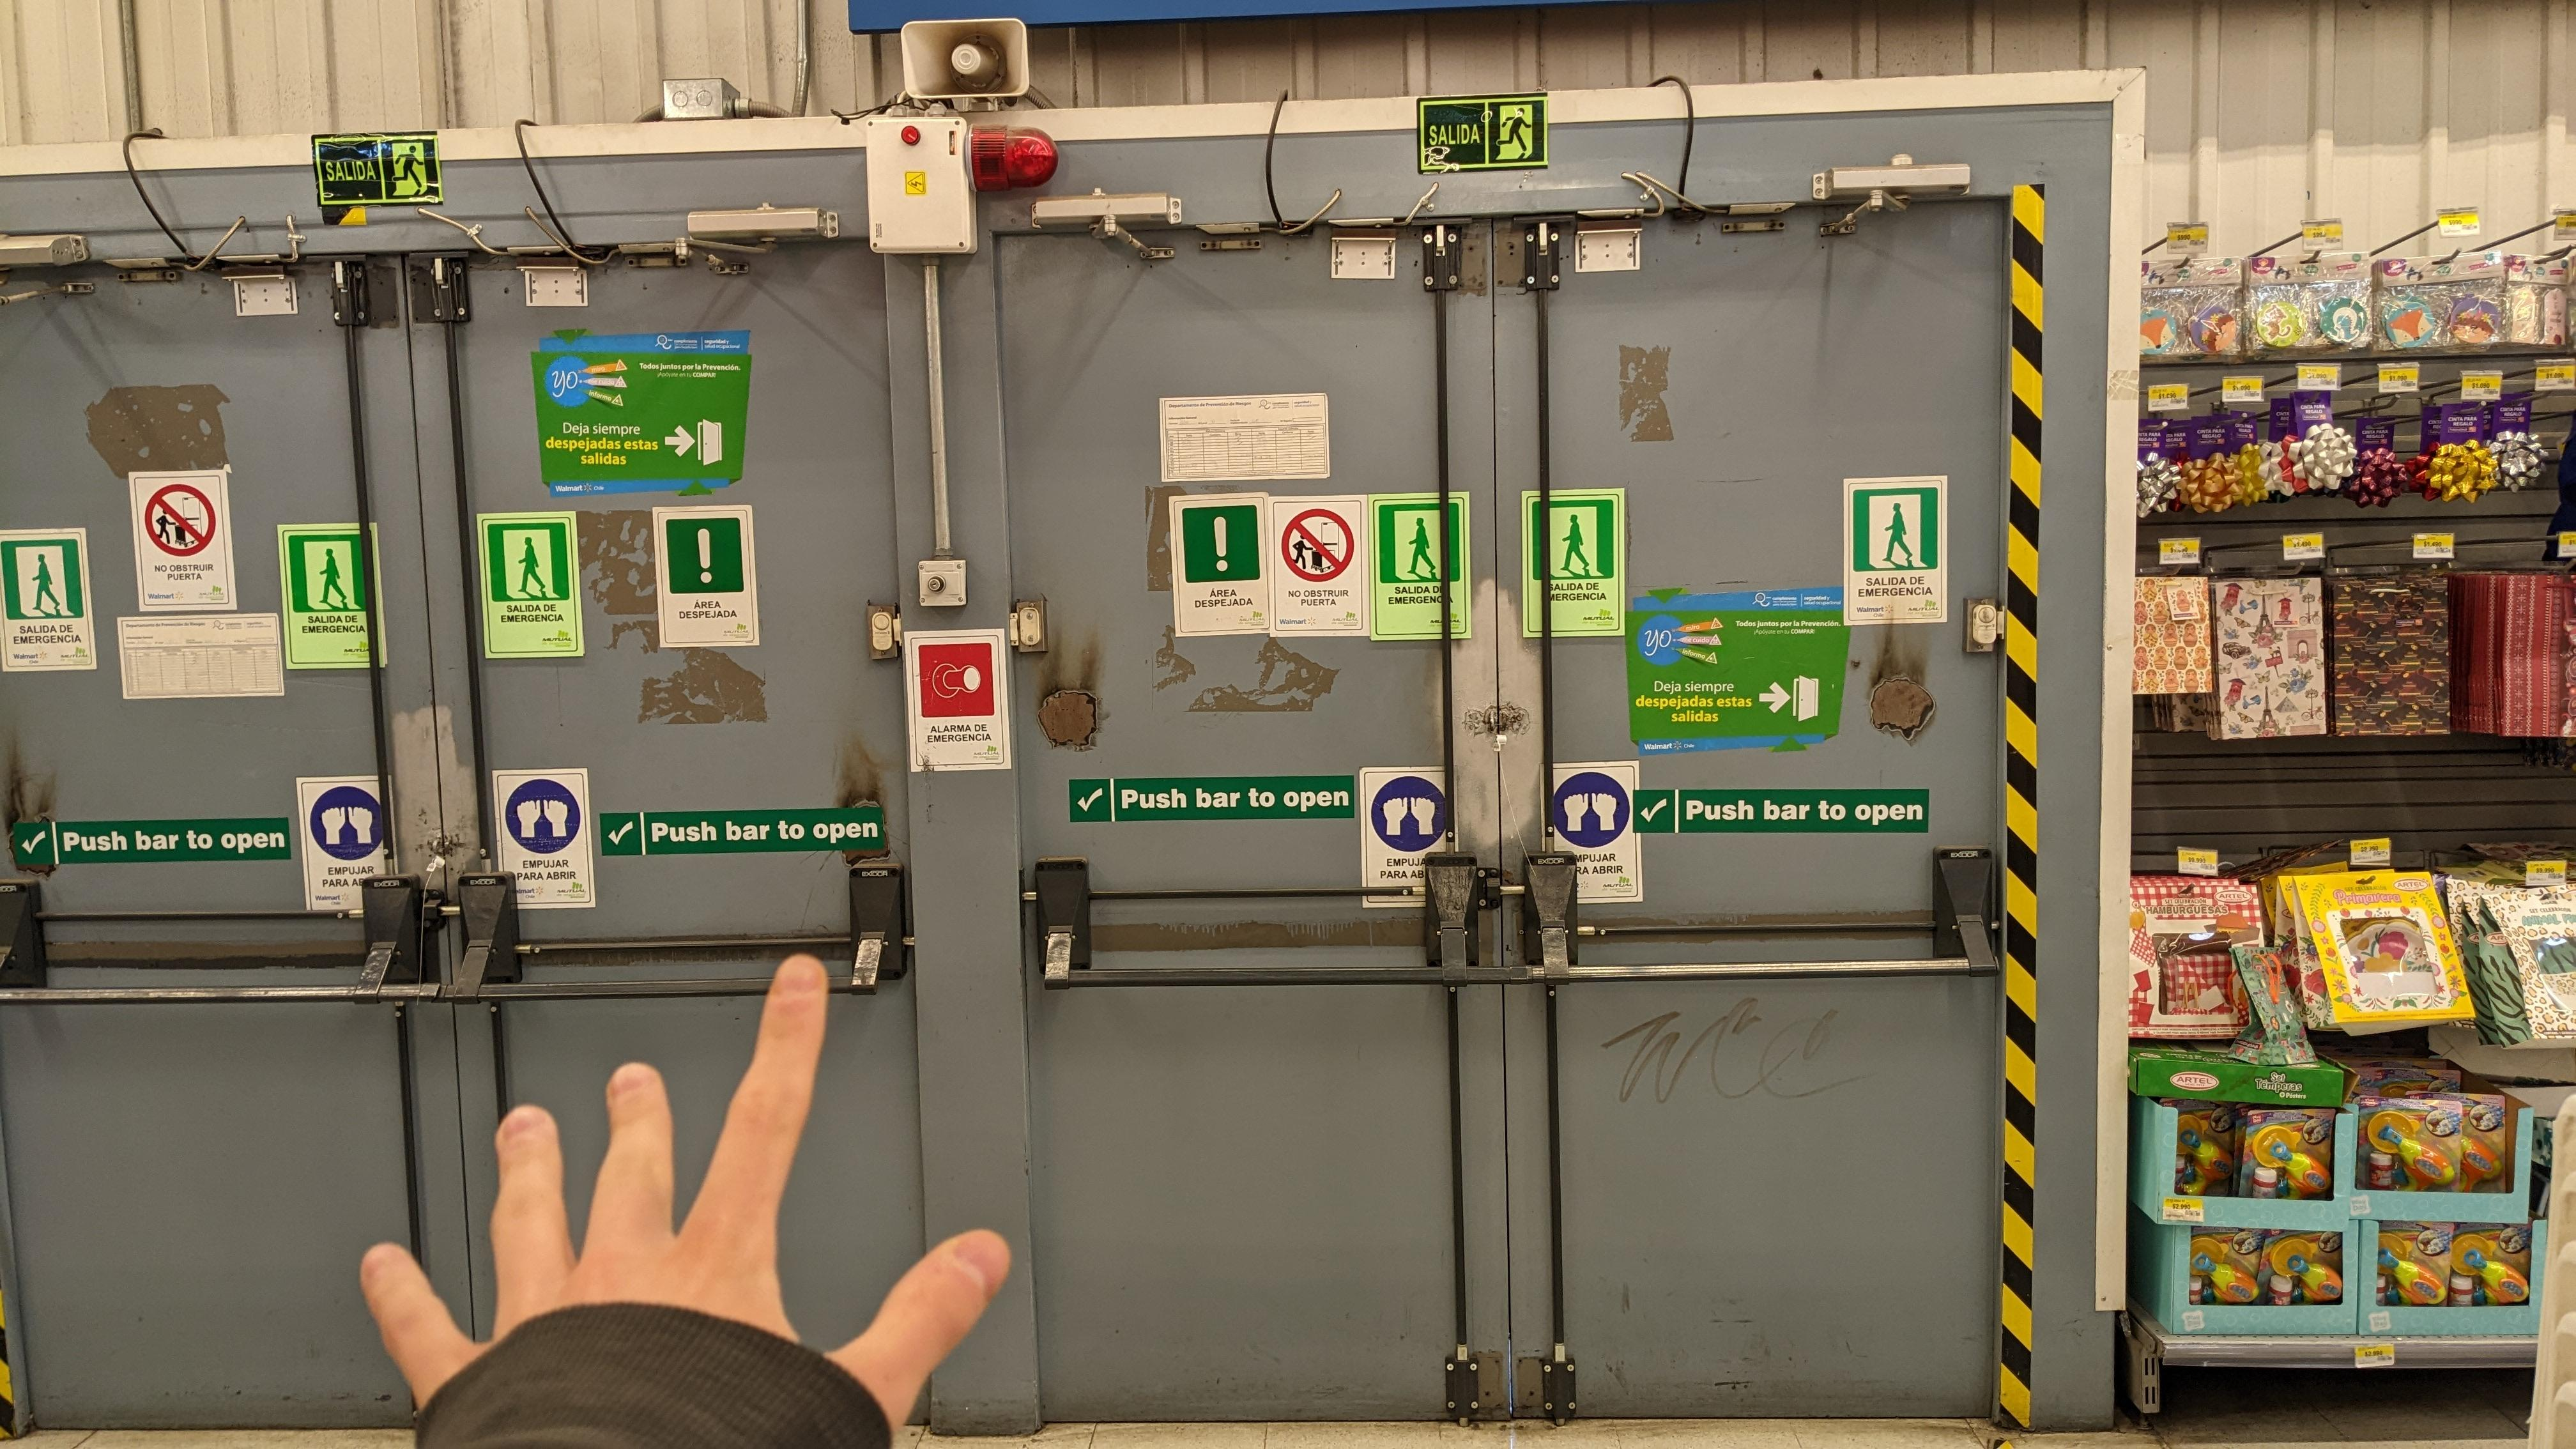emergency exit: (390, 139, 429, 199), (1496, 105, 1534, 160)
emergency right arrow: (664, 423, 696, 459)
